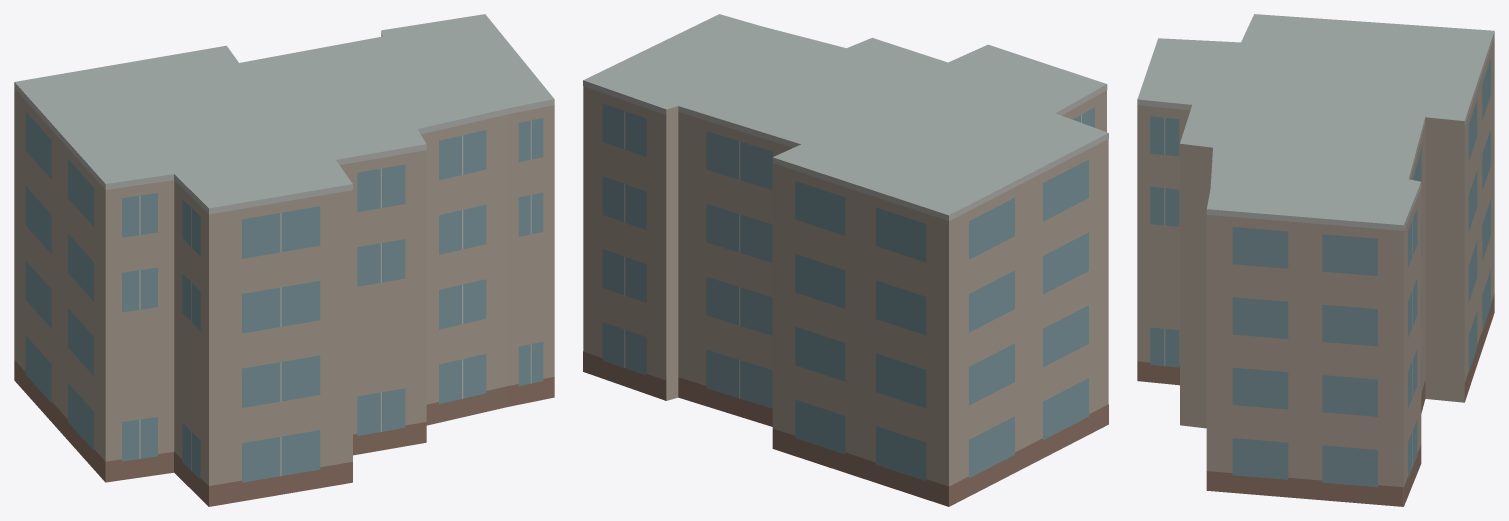
The model's file is survey-upis-32678217.glb.
3 views of the same model, side by side, from view 1: azimuth 30°, elevation 25°; view 2: azimuth 150°, elevation 25°; view 3: azimuth 270°, elevation 25° (orthographic). The views are drawn at different scales.
Parts seen in each view (by area): view 1: survey-upis-32678217.tmp; view 2: survey-upis-32678217.tmp; view 3: survey-upis-32678217.tmp.
Boxes of the visible parts, x1,y1,x2,y2 form: survey-upis-32678217.tmp: [14, 14, 554, 506]; survey-upis-32678217.tmp: [583, 14, 1108, 506]; survey-upis-32678217.tmp: [1137, 14, 1494, 506].
Bounding box in the file's own units: 19.64 × 12.2 × 14.04.
